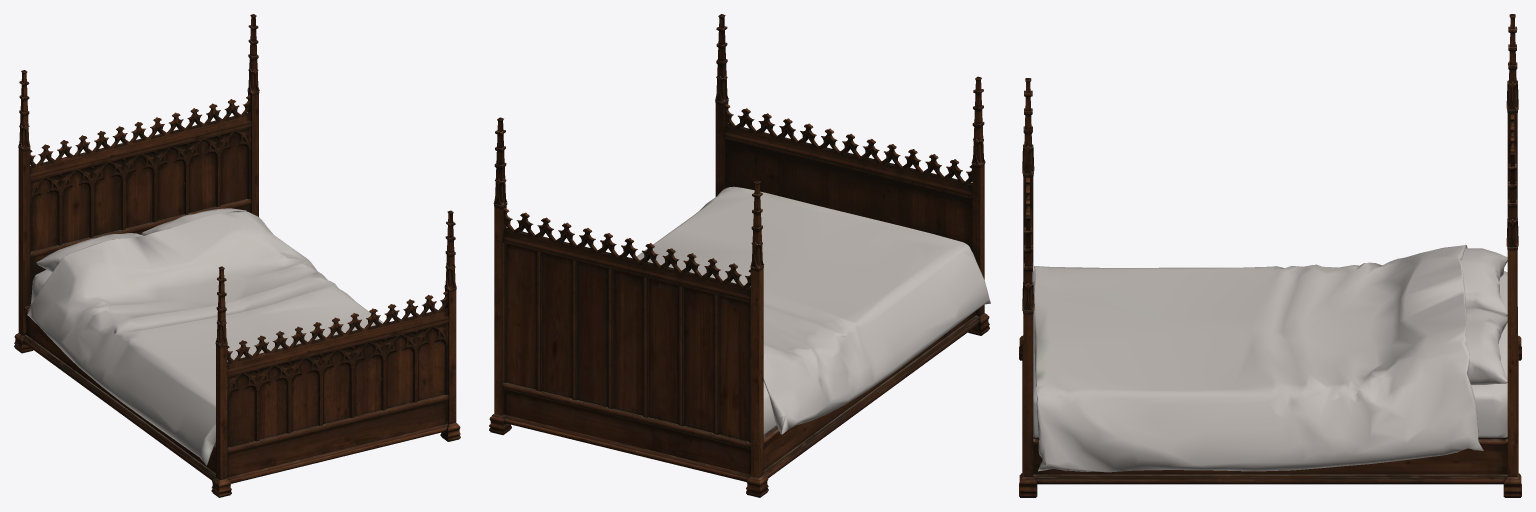
File: bed_gothic.glb
3 views of the same model, side by side, from view 1: azimuth 30°, elevation 25°; view 2: azimuth 150°, elevation 25°; view 3: azimuth 270°, elevation 25° (orthographic). The views are drawn at different scales.
Visible parts, largest first — view 1: GothicBed_01; view 2: GothicBed_01; view 3: GothicBed_01.
Boxes of the visible parts, x1,y1,x2,y2 form: GothicBed_01: [14, 14, 460, 497]; GothicBed_01: [489, 14, 990, 497]; GothicBed_01: [1019, 14, 1521, 497].
Size of the model in its own units: 1.49 by 1.53 by 2.04.
1 material, 1 textured.
